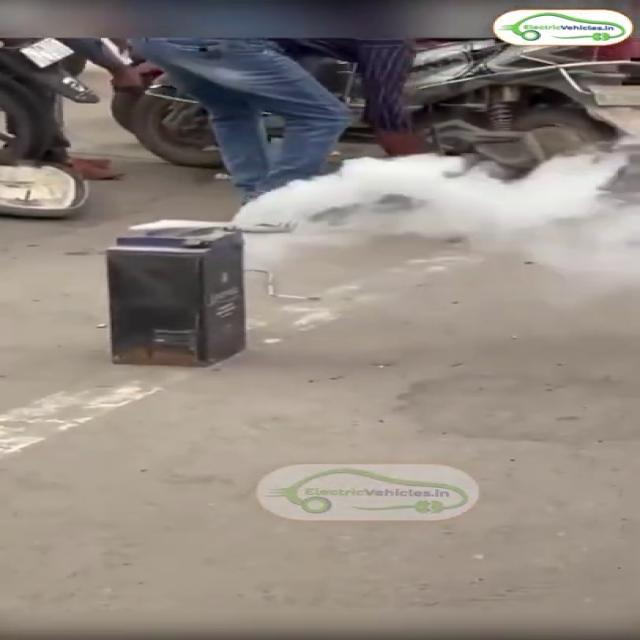Smoke: (247, 133, 637, 243)
